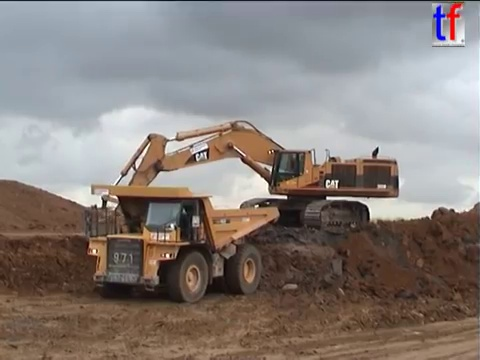excavator: (99, 118, 402, 252)
truck: (81, 181, 281, 304)
